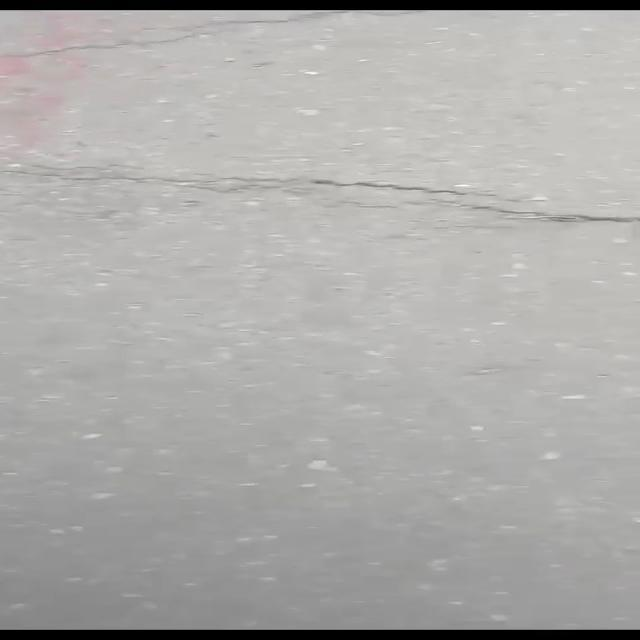Melintang: (0, 148, 640, 238)
